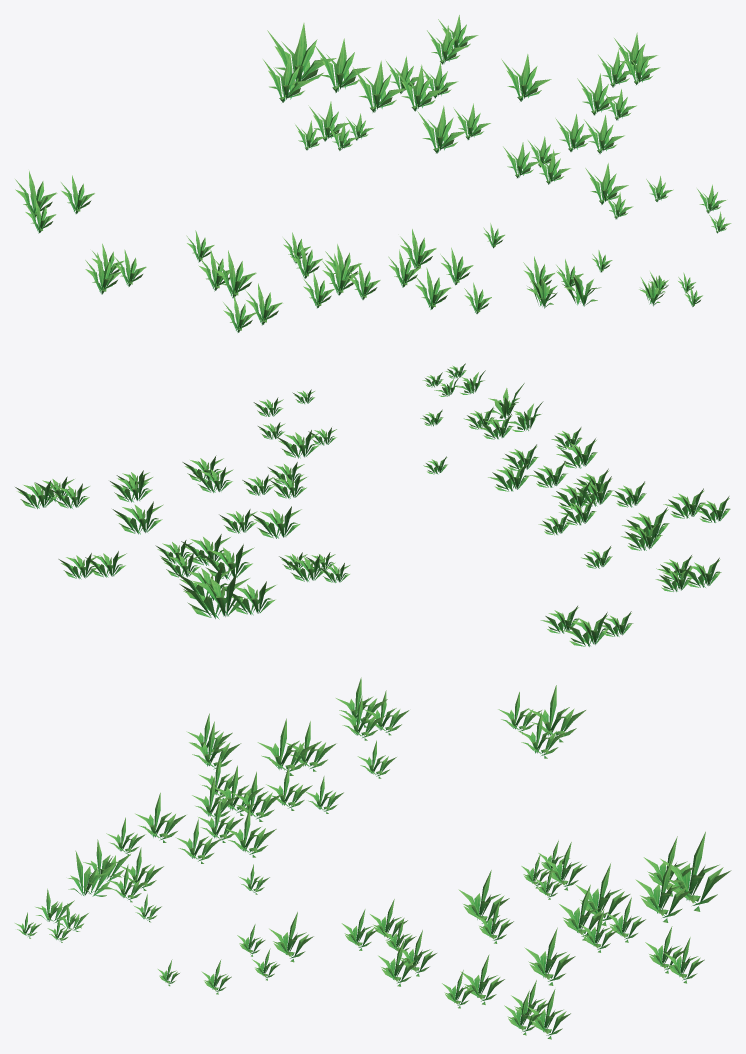
The model's file is area_13_3.FBX.
3 renders of one model, top to bottom at view 1: azimuth 30°, elevation 25°; view 2: azimuth 150°, elevation 25°; view 3: azimuth 270°, elevation 25°, orthographic. The views are drawn at different scales.
Parts seen in each view (by area): view 1: area_13_3; view 2: area_13_3; view 3: area_13_3.
Boxes of the visible parts, x1=… form: area_13_3: x1=15, y1=15, x2=731, y2=332; area_13_3: x1=15, y1=363, x2=730, y2=646; area_13_3: x1=15, y1=677, x2=731, y2=1039.
Bounding box in the file's own units: 19.4 × 1.64 × 17.73.
